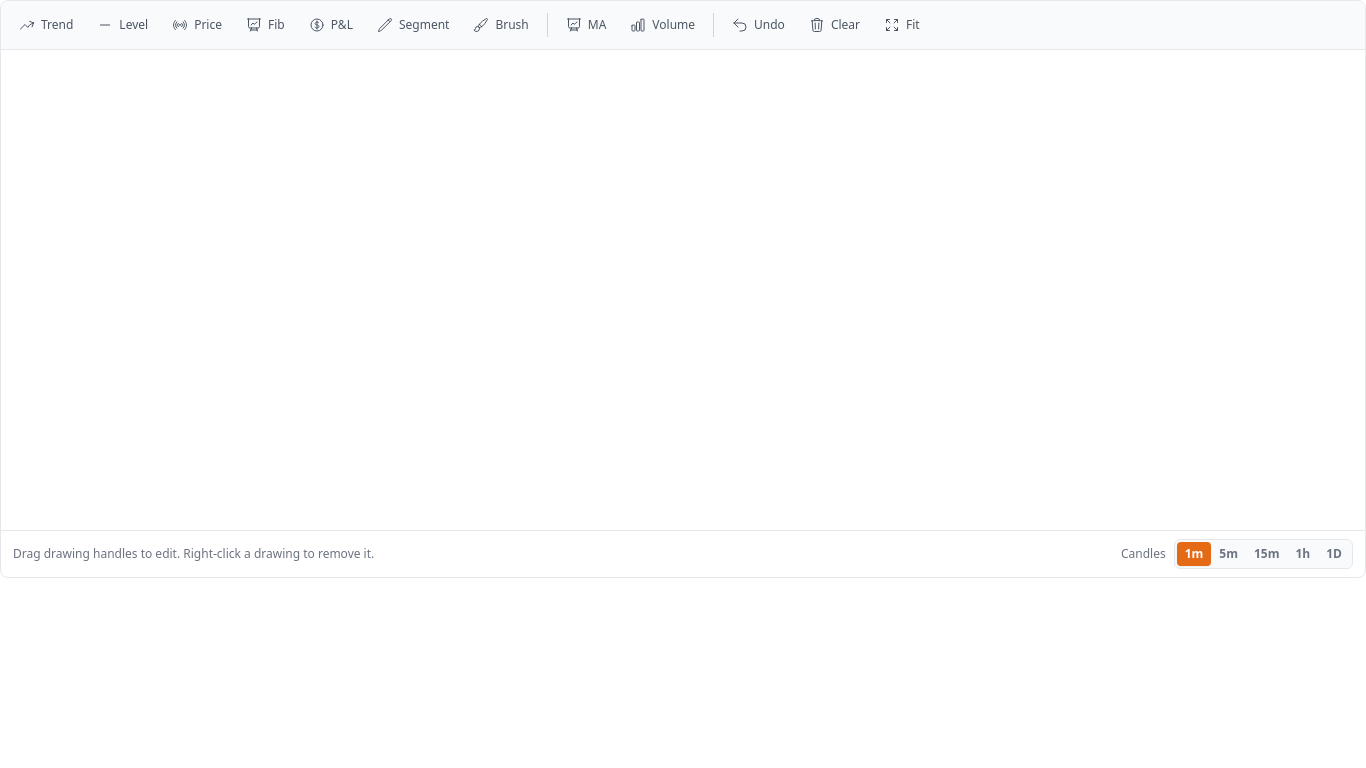
KLineTradeChart › starts a P&L measurement with the trade size, side, and display currency
This screenshot has width=1366, height=768.
Step 1. Click the button "P&L" → (331, 25), box [299,9,363,41]
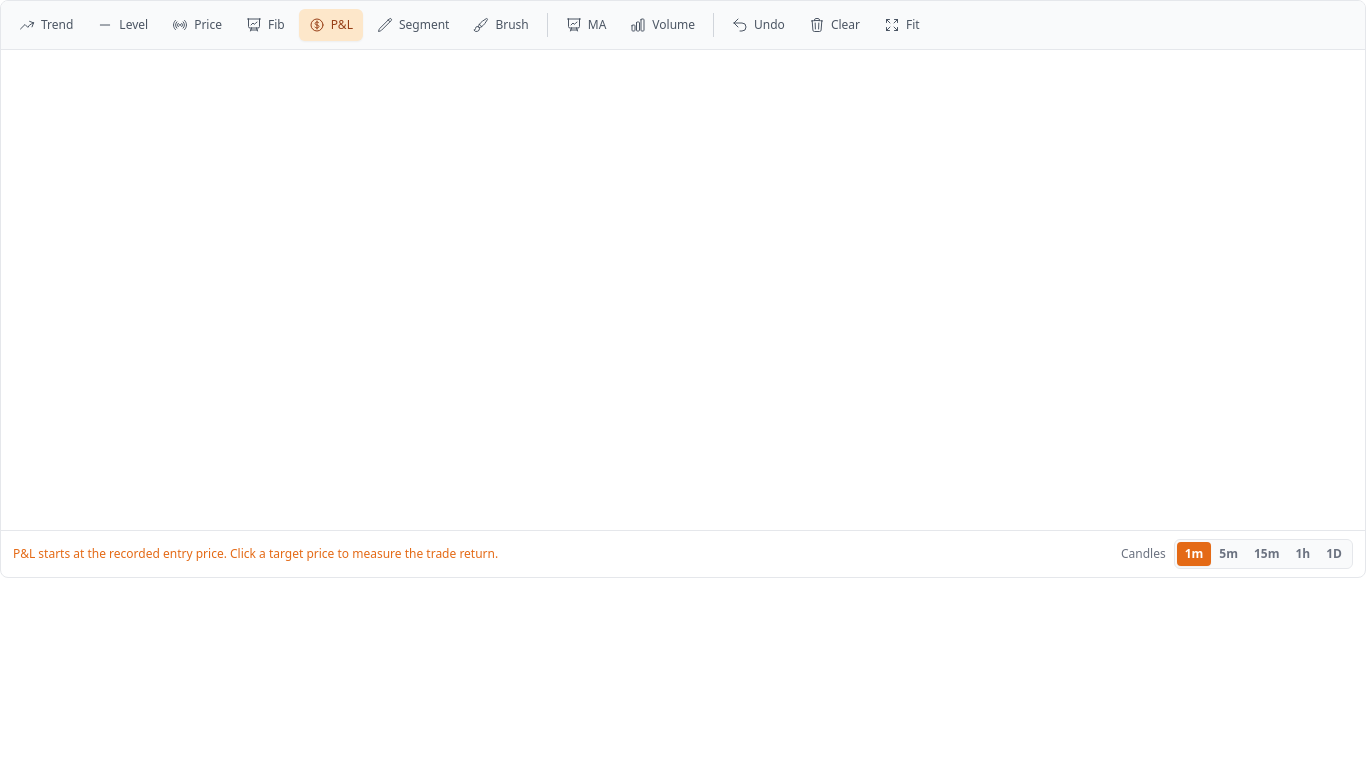
Now the text "P&L starts at the recorded entry price" is shown, box [13,545,498,562]
